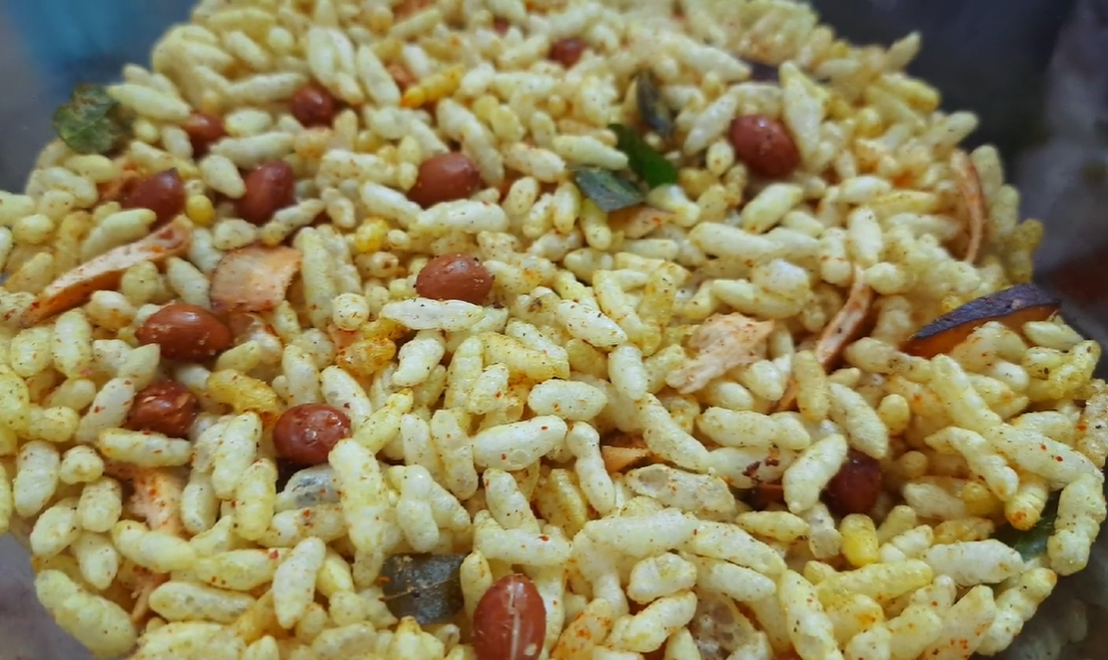chatpate: (36, 39, 1084, 636)
